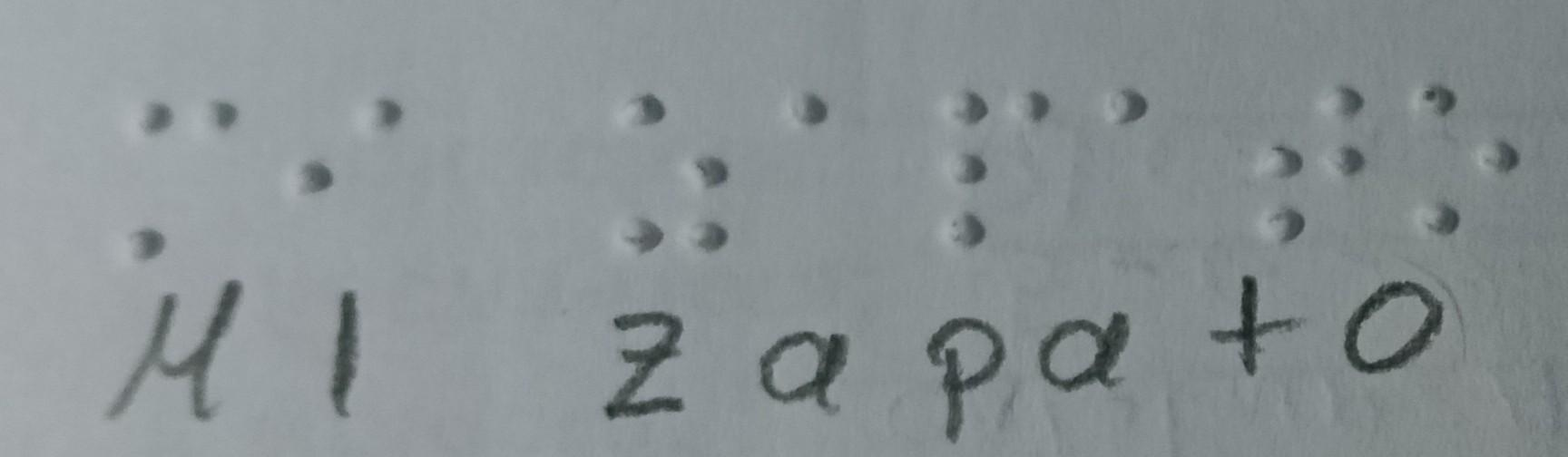a: (1065, 69, 1207, 154), (744, 78, 853, 170)
i: (250, 73, 417, 225)
m: (107, 78, 249, 274)
o: (1385, 53, 1524, 250)
p: (891, 73, 1063, 270)
t: (1205, 67, 1385, 247)
z: (595, 78, 735, 277)
